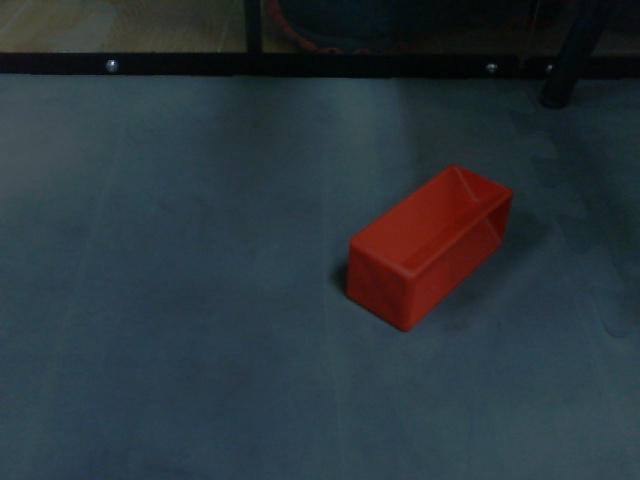RedSample: (342, 163, 517, 335)
